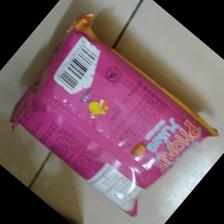Oishi_phomat: (8, 13, 218, 218)
